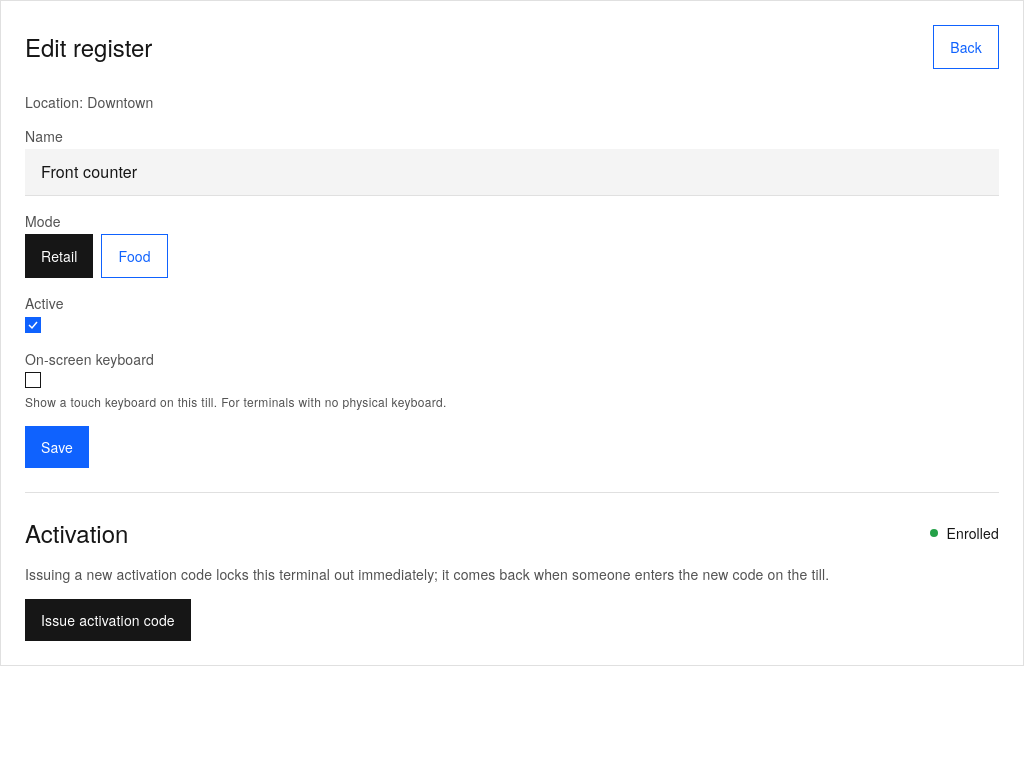
RegisterEditor › issues a code on confirm and shows it exactly once
Click the button "Issue activation code" at [108, 620], box x1=25 y1=599 x2=191 y2=641
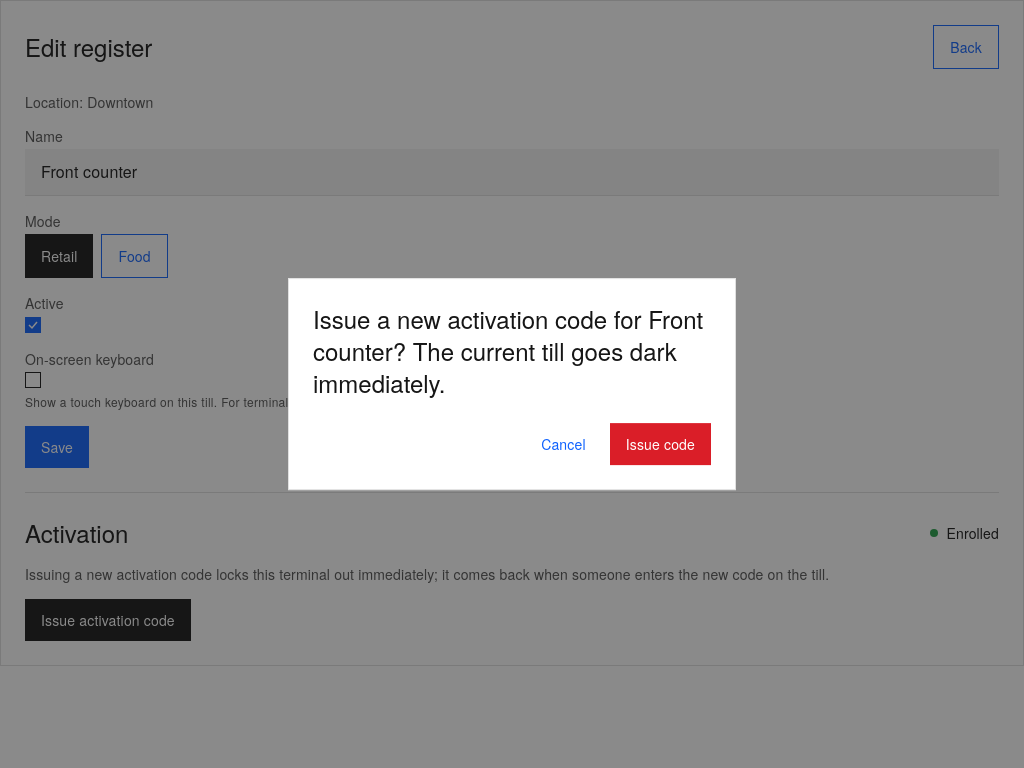
Click the button "Issue code" at [660, 444], box x1=610 y1=423 x2=711 y2=465
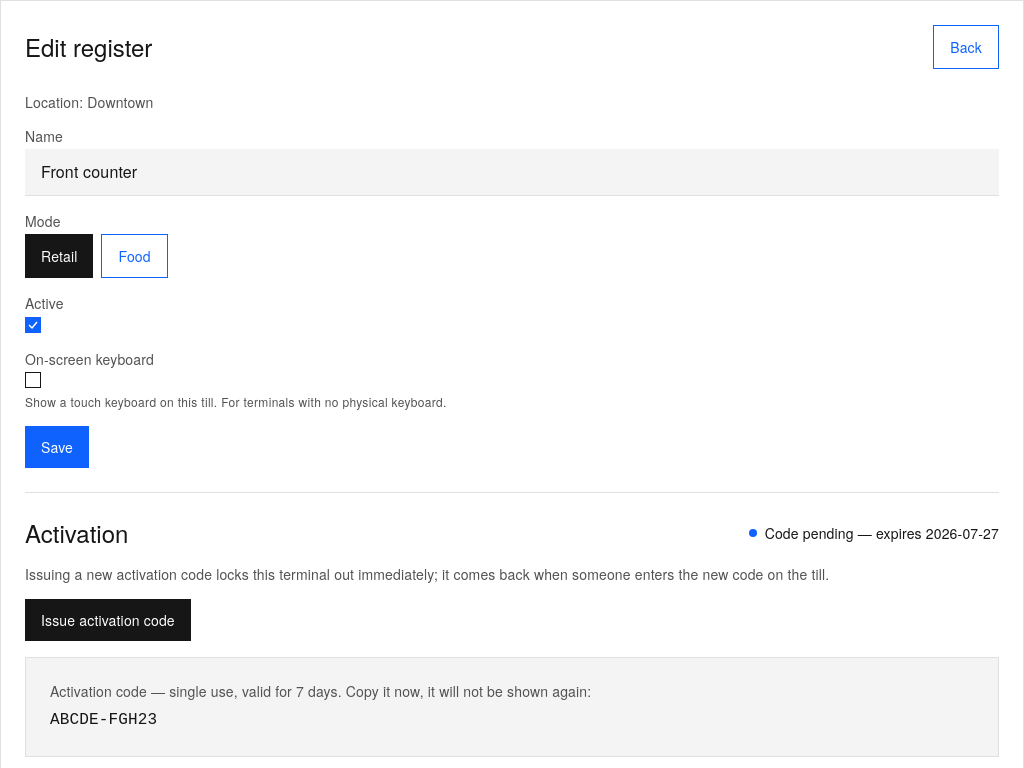
Result: the text "ABCDE-FGH23" is shown at x1=50 y1=712 x2=157 y2=730
